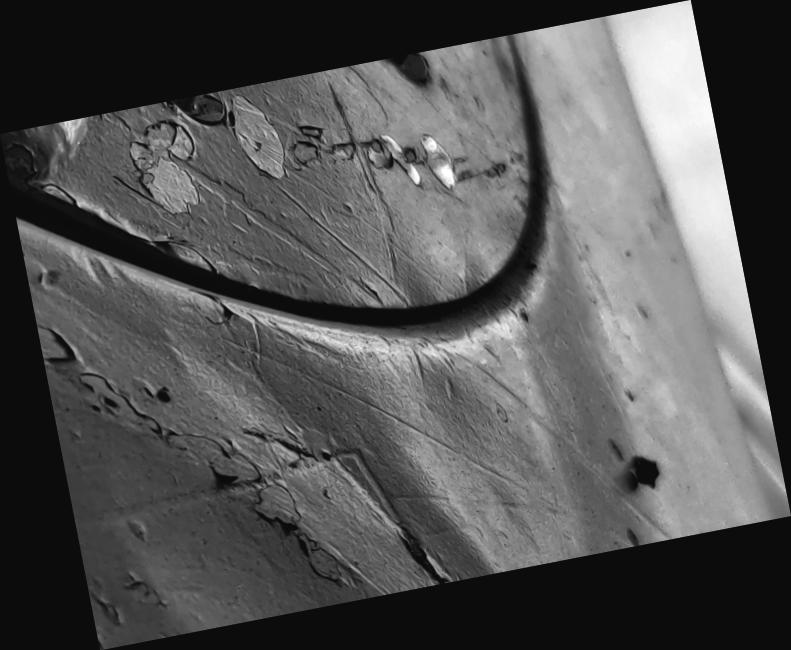crack: (0, 1, 790, 650)
